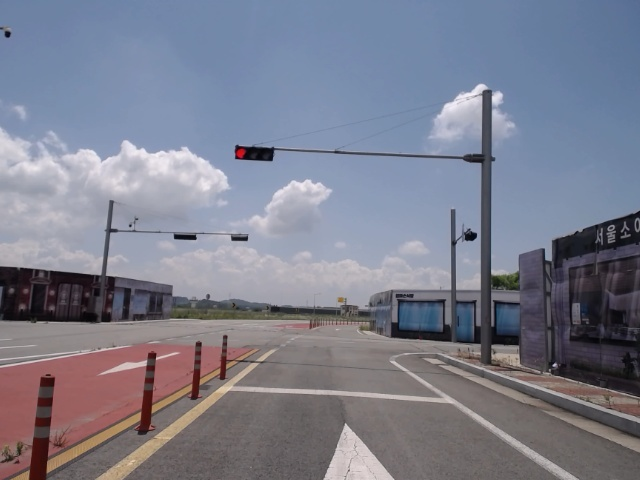red_3: (234, 147, 275, 161)
